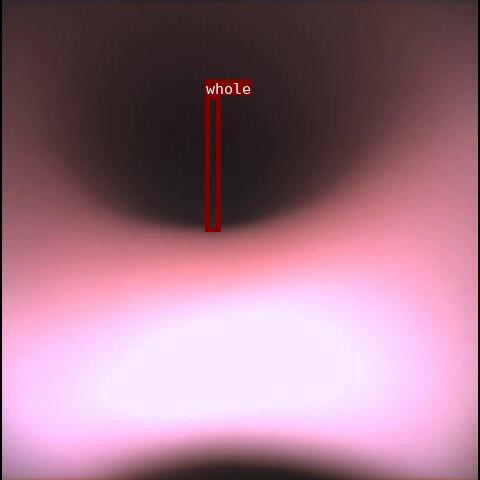whole: (205, 95, 220, 231)
